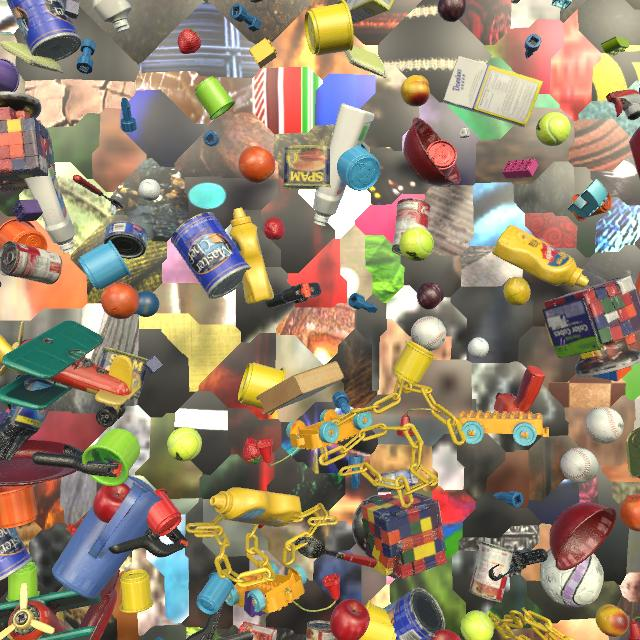ycb_002_master_chef_can: (171, 212, 251, 299), (6, 0, 81, 61), (383, 588, 445, 640), (0, 527, 32, 581)
ycb_004_sugar_box: (443, 56, 543, 127), (346, 0, 394, 24)
ycb_005_tomato_soup_can: (469, 541, 513, 602), (0, 241, 62, 284), (392, 198, 431, 256), (306, 620, 337, 640)
ycb_006_mustard_bottle: (492, 225, 589, 288), (229, 208, 274, 304), (210, 487, 301, 527)
ycb_007_tuna_fish_can: (104, 221, 148, 259), (375, 470, 419, 493)
ycb_009_gelatin_box: (239, 621, 277, 640)
ycb_010_potted_meat_can: (98, 347, 148, 399), (282, 145, 331, 190), (626, 427, 640, 478)
ycb_011_banana: (0, 334, 25, 374)
ycb_012_strawberry: (178, 28, 201, 54), (243, 437, 262, 464), (264, 217, 285, 240)
ycb_013_apple: (330, 599, 370, 640), (93, 483, 131, 523), (429, 629, 461, 640)
ycb_014_lemon: (504, 277, 531, 306)
ycb_015_peach: (596, 604, 629, 637), (401, 75, 430, 107)
ycb_017_orange: (238, 146, 275, 184), (101, 283, 139, 319), (619, 495, 640, 532)
ycb_018_plum: (417, 282, 444, 310), (437, 0, 466, 22)
